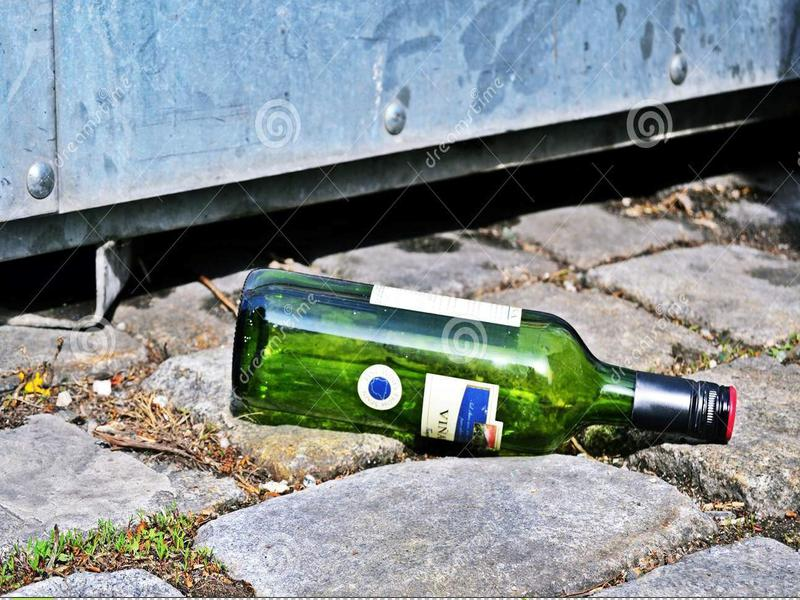bottle: (221, 264, 742, 459)
